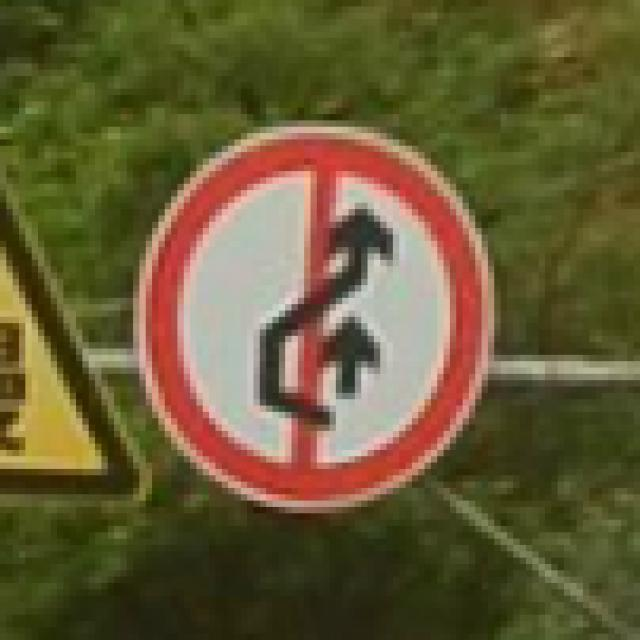Not that Direction: (144, 138, 501, 499)
